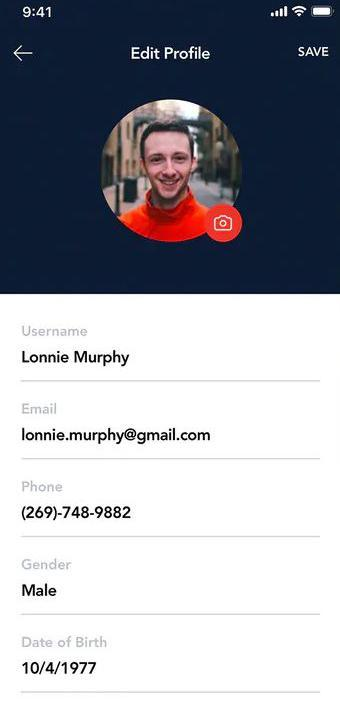icon: (13, 42, 35, 66), (213, 214, 235, 235)
label: (126, 43, 214, 66), (18, 634, 110, 652), (20, 557, 74, 575), (17, 326, 91, 339), (20, 478, 66, 497), (293, 45, 337, 60), (19, 403, 60, 418)
